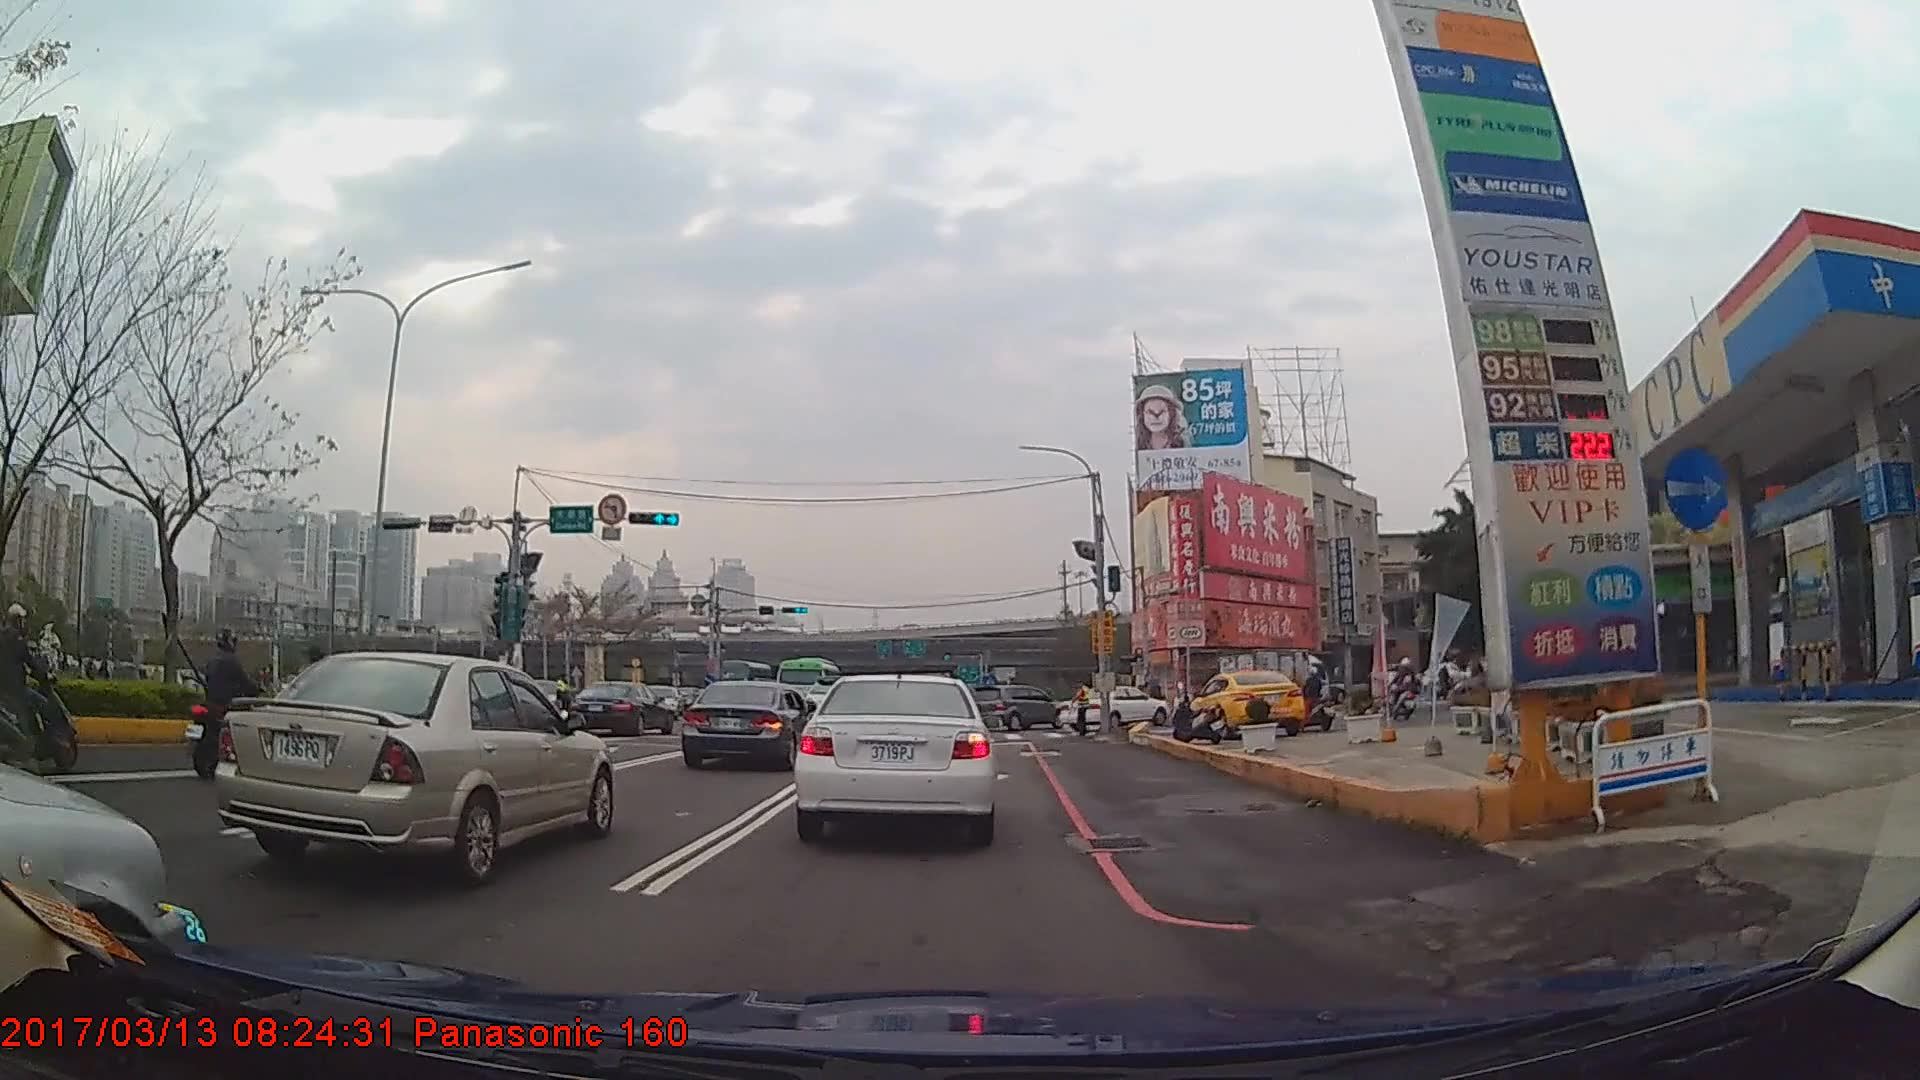pedestrian: (1067, 679, 1091, 737)
rider: (183, 627, 276, 781), (4, 605, 79, 778), (1295, 666, 1335, 733), (1390, 658, 1418, 722)
vehicle: (215, 649, 614, 888), (797, 668, 996, 841), (680, 680, 816, 771), (1185, 667, 1306, 735), (1213, 648, 1330, 716), (566, 680, 673, 734), (1060, 681, 1169, 729), (970, 683, 1065, 729), (773, 655, 843, 712)
